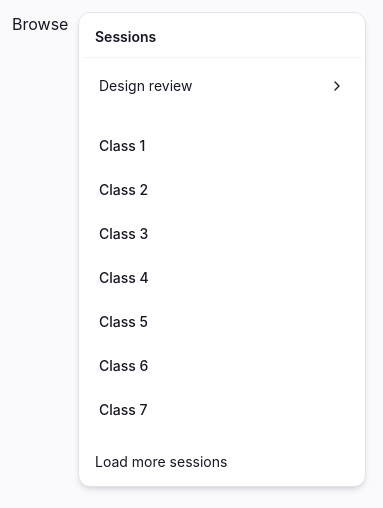
Scenario: loads session history beyond the first page
The width and height of the screenshot is (383, 508).
Click the menu item "Load more sessions" at (161, 462), box [95,453,227,470]
(page scrolled)
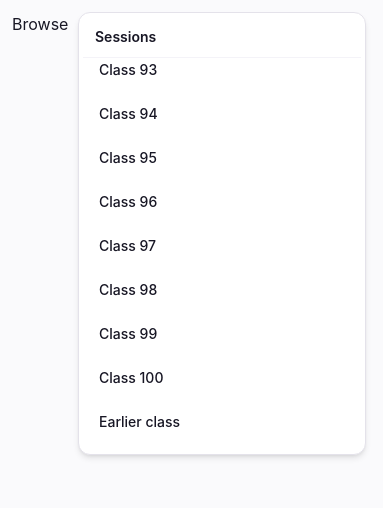
expect the menu item "Load more sessions" is gone: met
